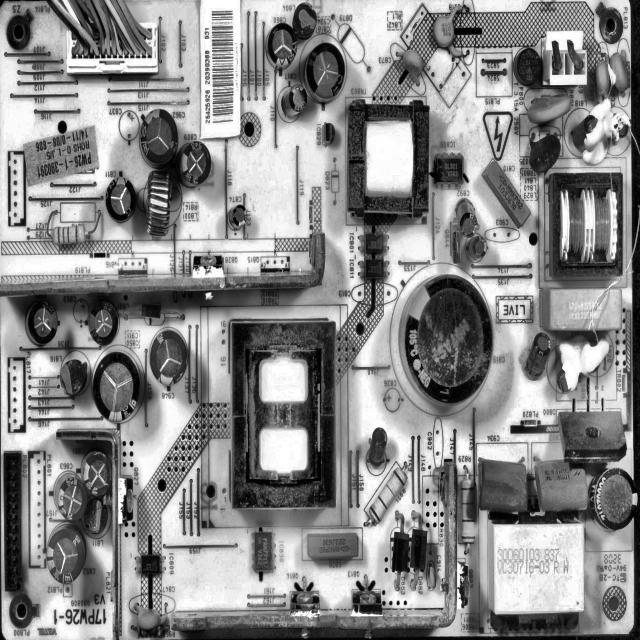PCB: (0, 1, 635, 640)
